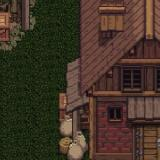Obstacle: (48, 0, 160, 160), (0, 0, 48, 57)
